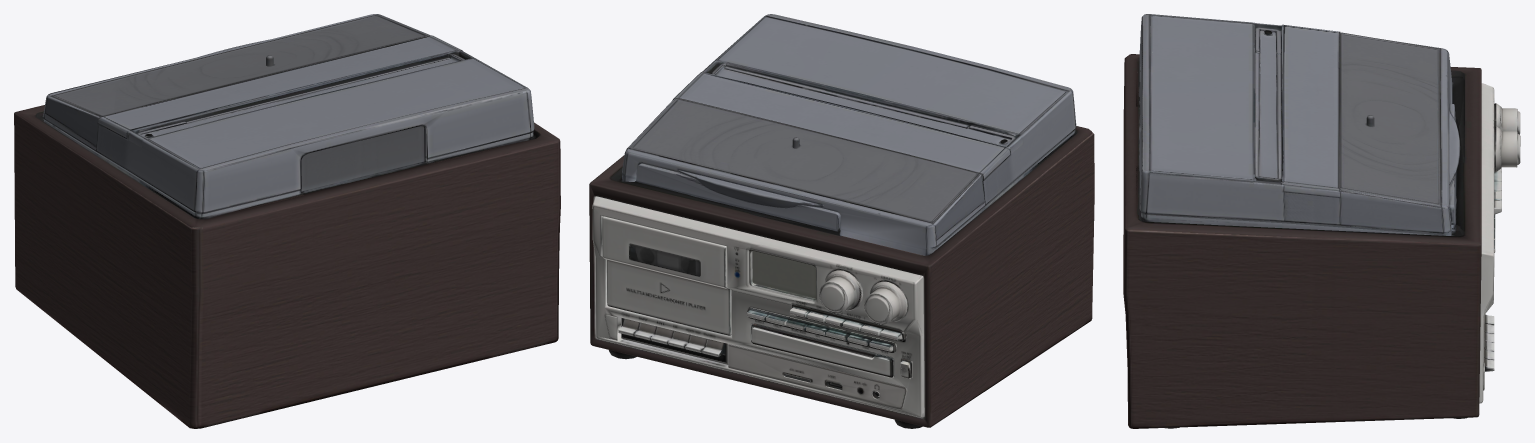
Rendered from OparetionRoom_AI_Prop.017.fbx.
3 views of the same model, side by side, from view 1: azimuth 30°, elevation 25°; view 2: azimuth 150°, elevation 25°; view 3: azimuth 270°, elevation 25° (orthographic). The views are drawn at different scales.
Parts seen in each view (by area): view 1: OparetionRoom_AI_Prop.017; view 2: OparetionRoom_AI_Prop.017; view 3: OparetionRoom_AI_Prop.017.
Boxes of the visible parts, x1=… form: OparetionRoom_AI_Prop.017: x1=14, y1=14, x2=560, y2=428; OparetionRoom_AI_Prop.017: x1=589, y1=14, x2=1094, y2=428; OparetionRoom_AI_Prop.017: x1=1123, y1=14, x2=1520, y2=428.
Bounding box in the file's own units: 55.48 × 37.84 × 52.6.
